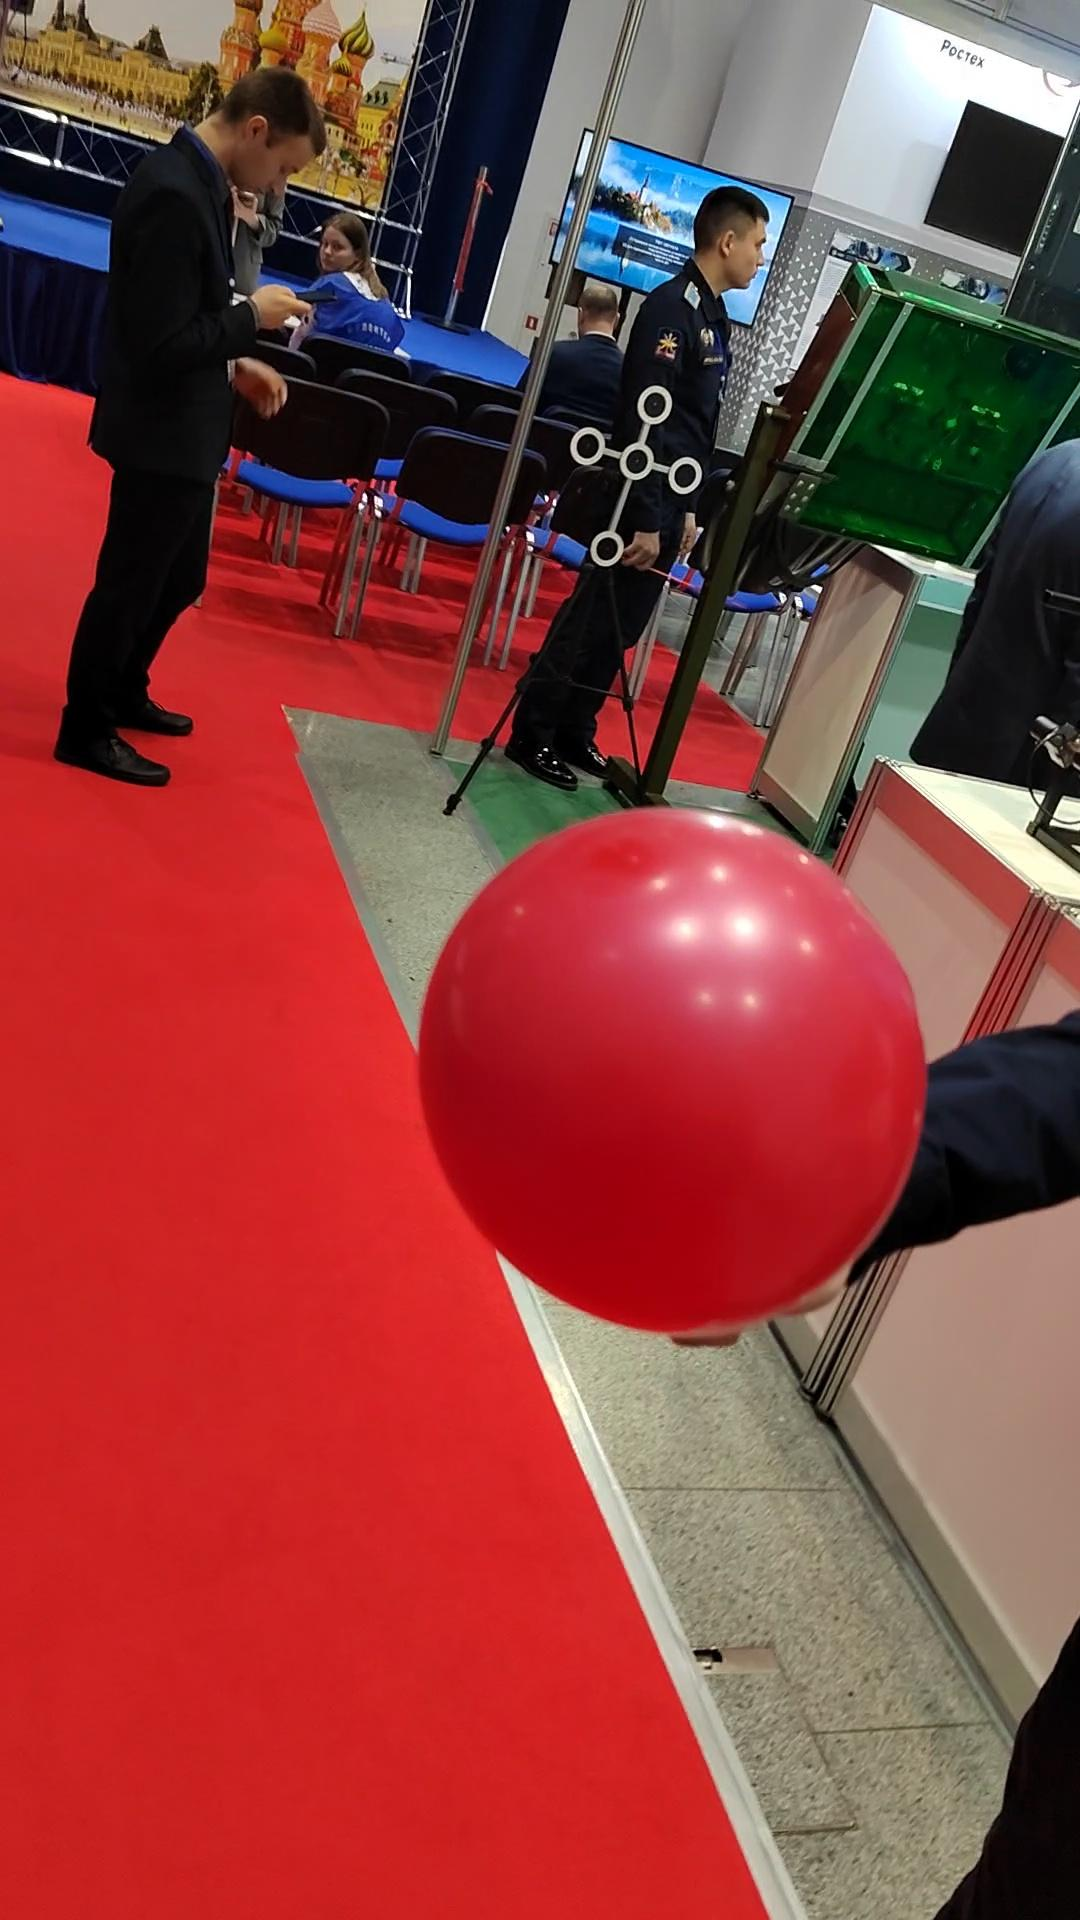red: (407, 794, 940, 1353)
